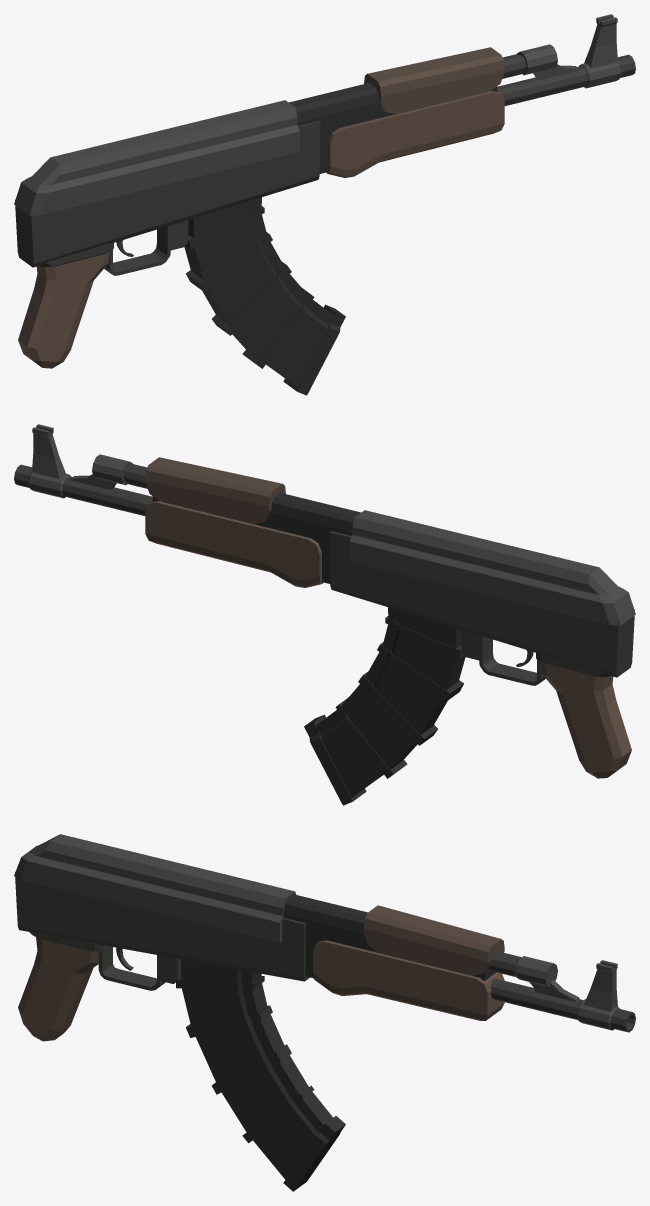
Rendered from AssaultRifle_3.glb.
3 views of the same model, one above another, from view 1: azimuth 30°, elevation 25°; view 2: azimuth 150°, elevation 25°; view 3: azimuth 330°, elevation 25° (orthographic).
Visible parts, largest first — view 1: AssaultRifle_3; view 2: AssaultRifle_3; view 3: AssaultRifle_3.
Part boxes in pixels (x1,y1,x2,y2): AssaultRifle_3: [14, 14, 635, 395]; AssaultRifle_3: [14, 424, 635, 805]; AssaultRifle_3: [14, 834, 635, 1191].
Size of the model in its own units: 3.43 by 1.6 by 0.196.
